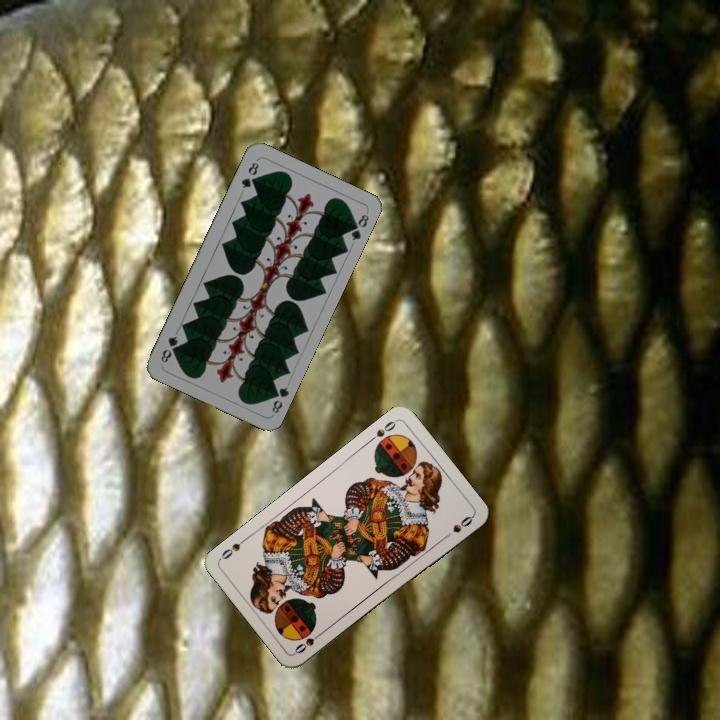G8: (266, 383, 291, 416), (237, 158, 261, 191)
SO: (291, 627, 326, 656), (365, 416, 399, 445)
